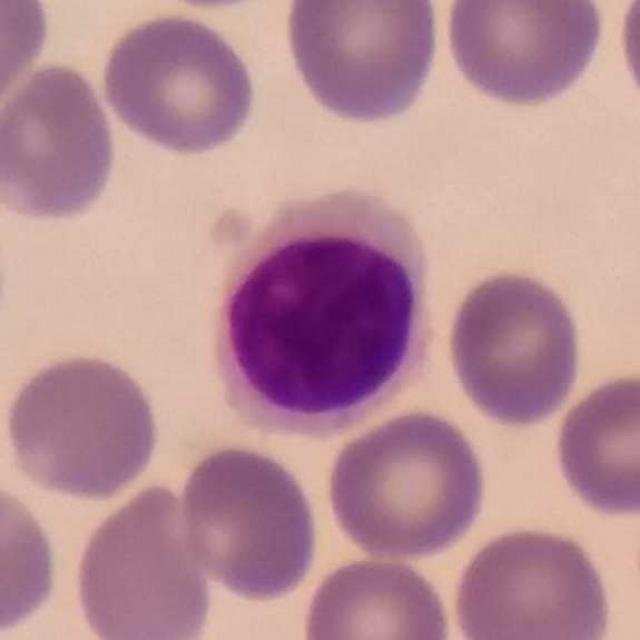Lymphocyte: (205, 183, 440, 440)
RBC: (323, 406, 491, 563), (172, 438, 324, 606), (1, 347, 164, 503), (68, 477, 218, 640), (97, 10, 260, 158), (442, 265, 585, 430), (278, 0, 446, 128), (0, 57, 121, 226), (448, 520, 616, 640), (439, 0, 610, 111), (298, 551, 456, 640), (550, 366, 640, 520), (0, 474, 63, 638), (0, 0, 55, 121), (613, 0, 639, 122)
